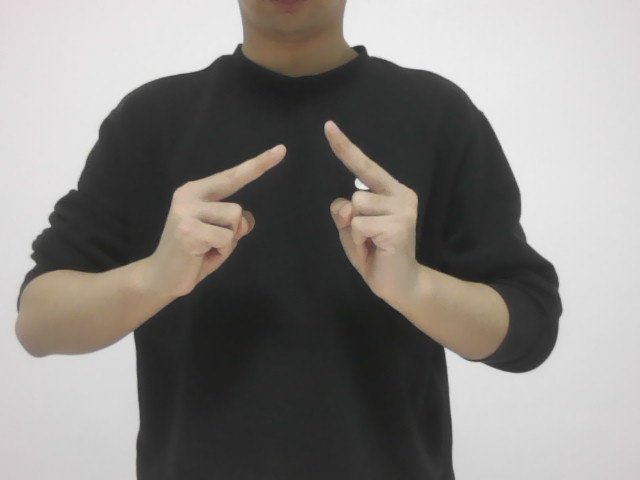know: (145, 120, 441, 331)
